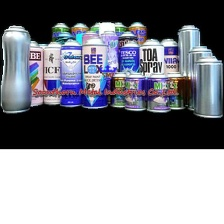aerosol_cans: (0, 22, 33, 114), (79, 34, 109, 110), (17, 35, 46, 108), (192, 53, 224, 119), (176, 23, 202, 102), (58, 38, 86, 109), (136, 35, 167, 98), (41, 39, 67, 106), (156, 36, 182, 103), (116, 37, 144, 96), (49, 19, 73, 86), (97, 29, 120, 90), (127, 18, 148, 84), (70, 19, 90, 83), (144, 70, 172, 114), (107, 69, 134, 110), (162, 69, 187, 111), (122, 71, 147, 111)
